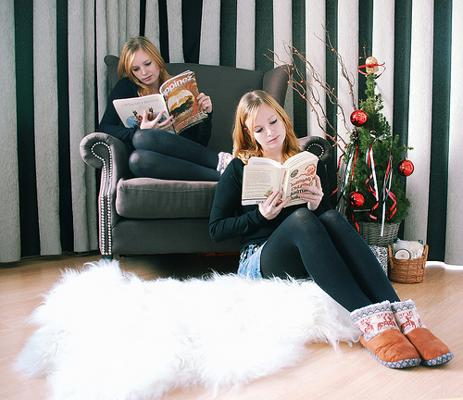person: (210, 90, 455, 369)
